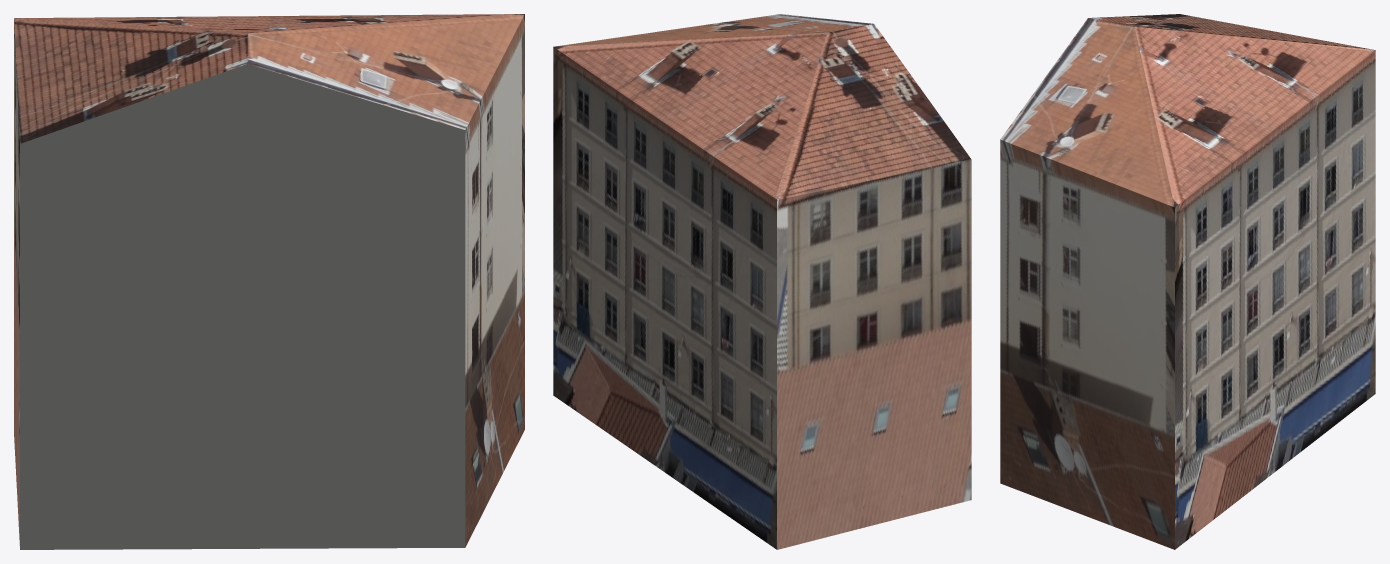
3 views of the same model, side by side, from view 1: azimuth 30°, elevation 25°; view 2: azimuth 150°, elevation 25°; view 3: azimuth 270°, elevation 25° (orthographic). The views are drawn at different scales.
Parts seen in each view (by area): view 1: Z_UP; view 2: Z_UP; view 3: Z_UP.
Boxes of the visible parts, bbox=[...] form: Z_UP: bbox=[14, 14, 524, 549]; Z_UP: bbox=[553, 14, 971, 549]; Z_UP: bbox=[1000, 14, 1375, 549].
Bounding box in the file's own units: 25.04 × 23.28 × 19.71.
Materials: 2 (1 with a texture image).
